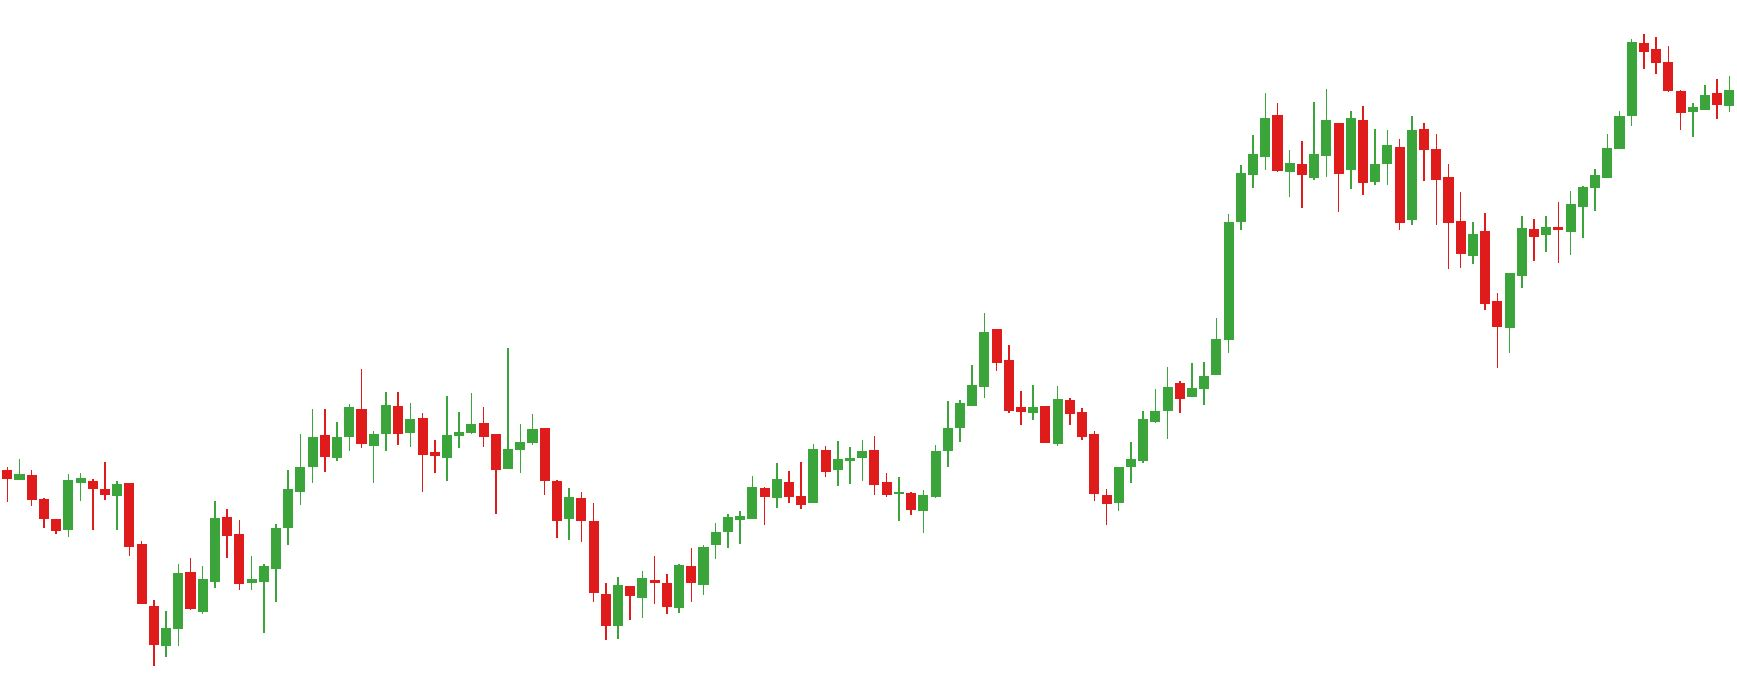buy: (796, 455, 929, 540), (183, 542, 271, 642)
sell: (441, 338, 518, 486), (1256, 82, 1347, 195)
